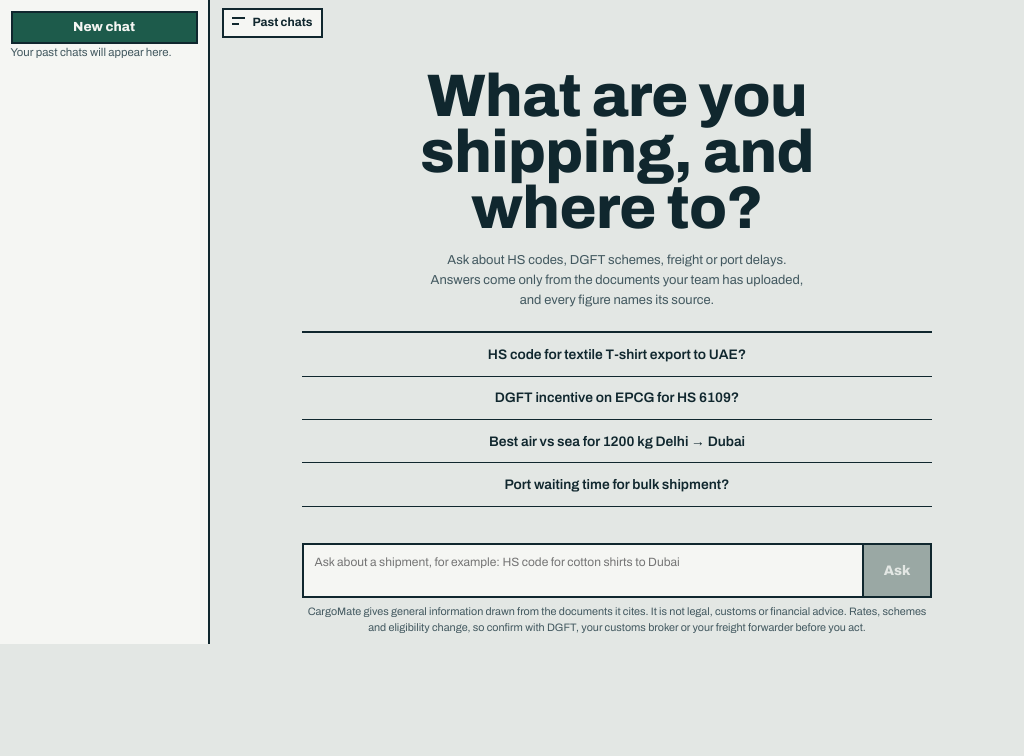
Test: Chat: dynamic replies › answers a follow-up as a chat reply and an analysis question as a docket, in one thread
Type "hs code for cotton shirts" into the text box named "Your question" at coordinates (583, 571), box [304,545,862,596]
Then press Enter
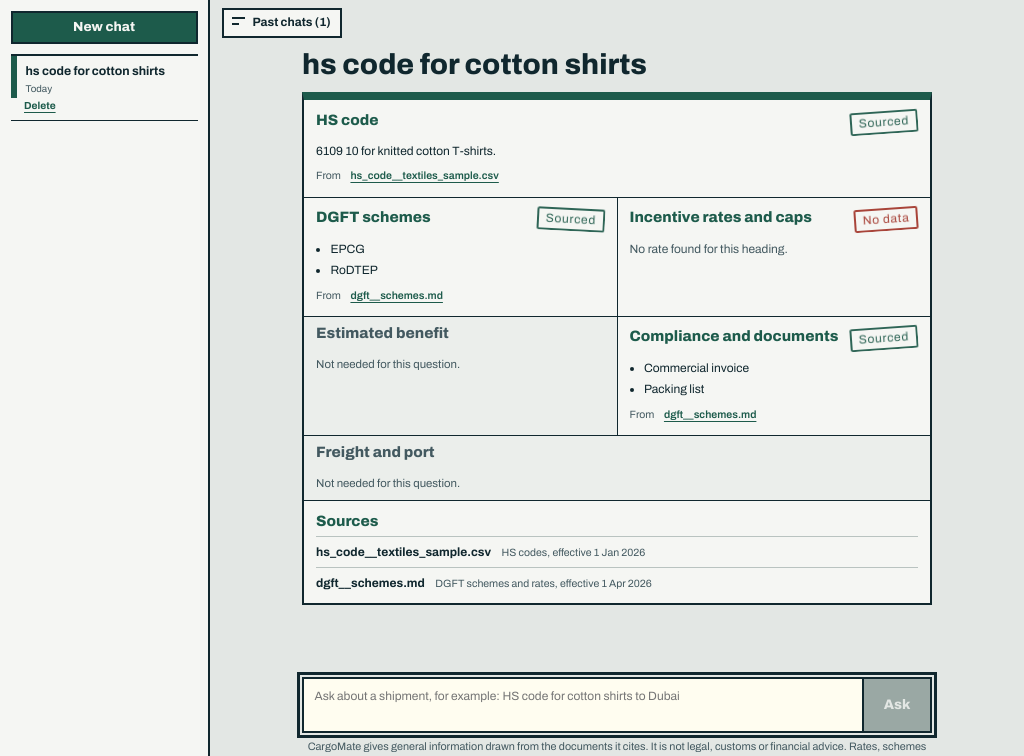
Result: the heading "HS code" is shown at [316,111,379,129]
Type "what about sea?" into the text box named "Your question" at coordinates (583, 705), box [304,679,862,731]
Then press Enter
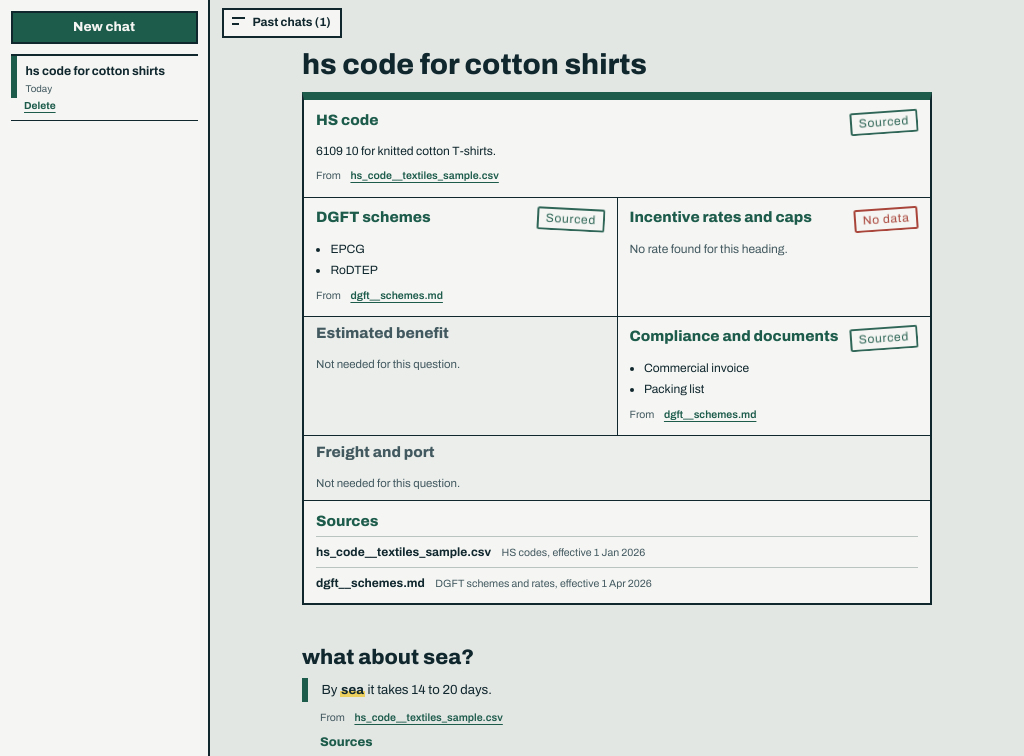
Result: the number of elements with class "docket" is 1 at [302,92,932,605]
Result: the text "sea" is shown at [340,682,365,697]
